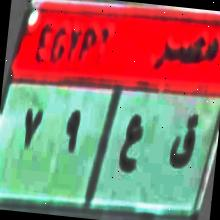7: (15, 89, 49, 170)
9: (57, 105, 93, 167)
ain: (112, 105, 146, 190)
qaaf: (164, 104, 204, 175)
